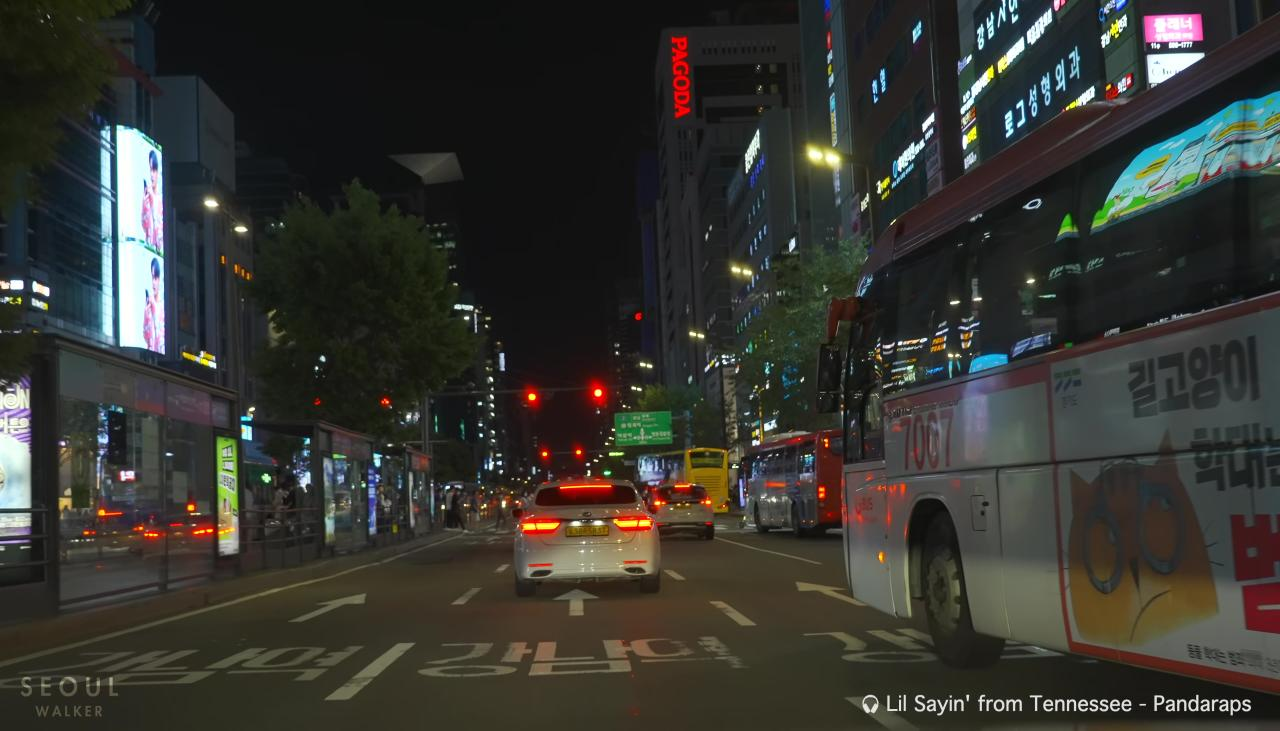Red Light: (527, 392, 538, 402), (593, 388, 602, 398)
